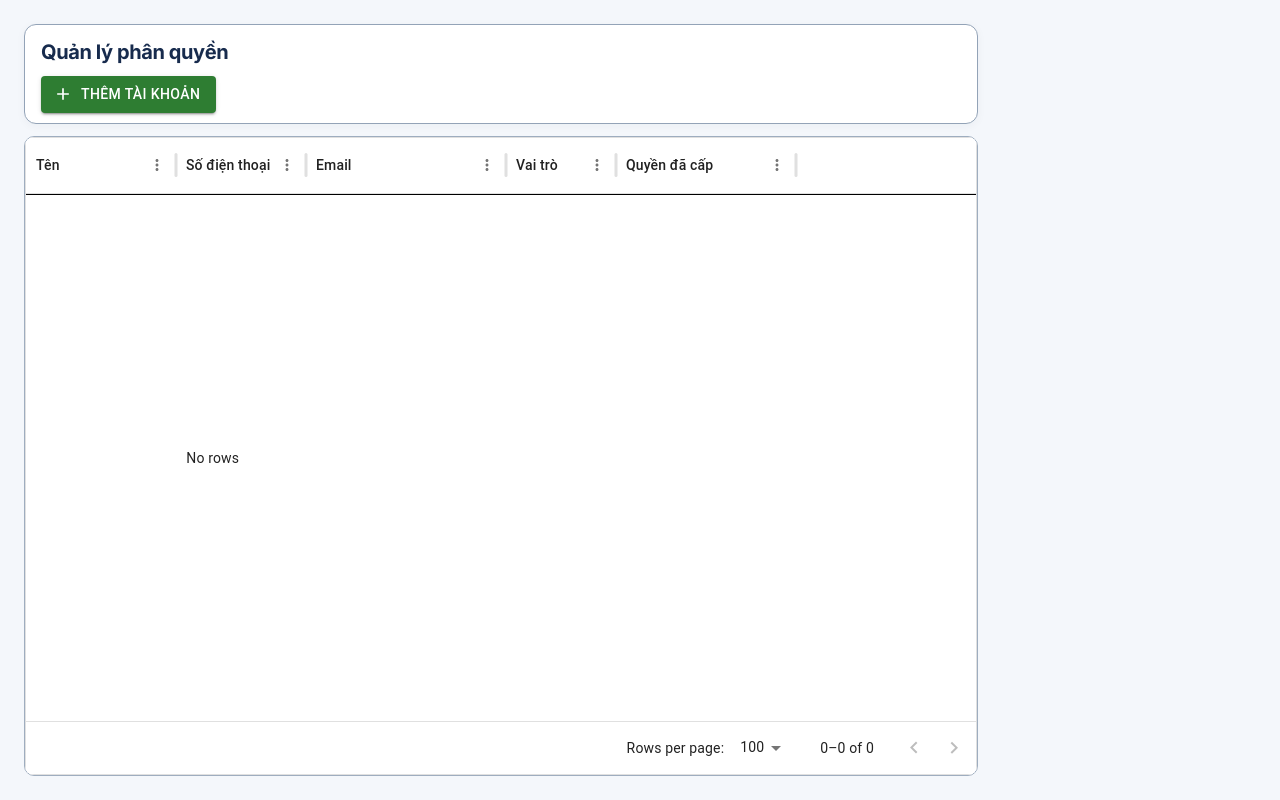
Account › shows fixed admin permissions block for admin role
Click the button "Thêm tài khoản" at (129, 94), box [41,76,216,112]
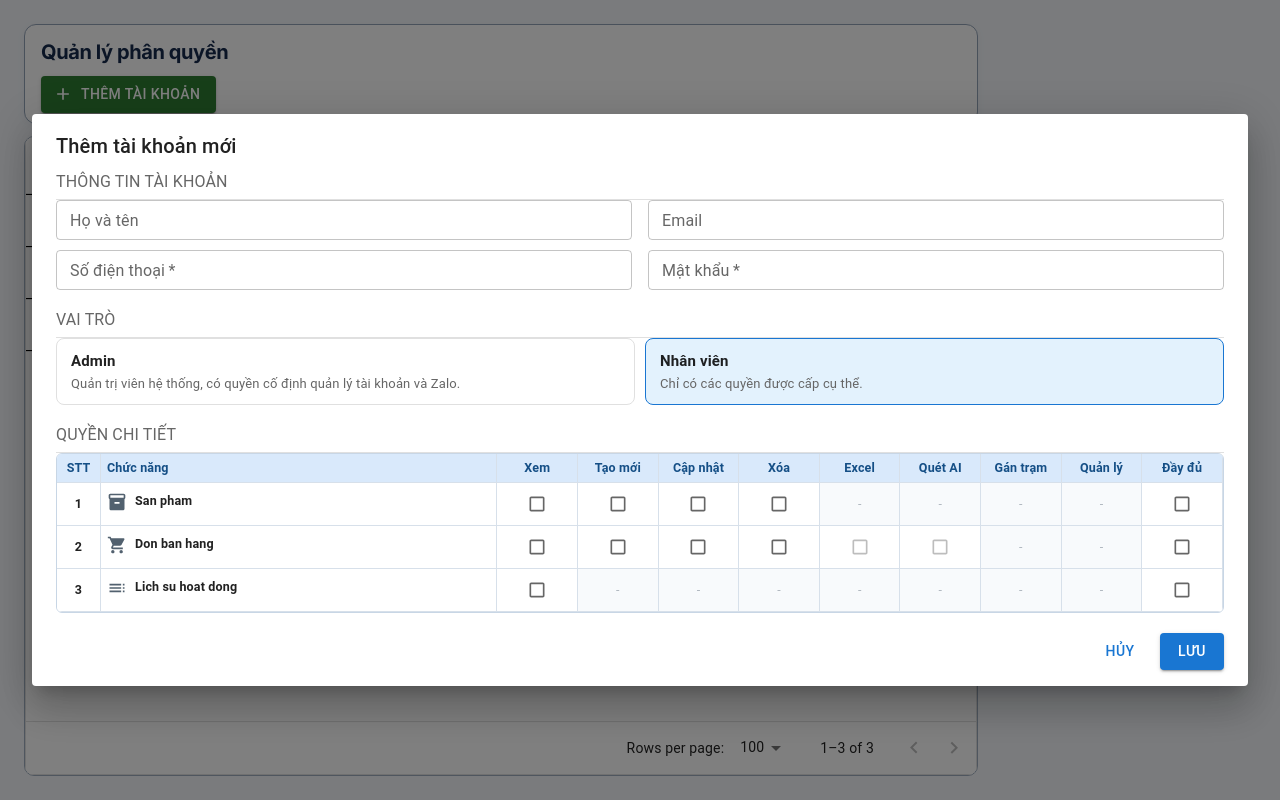
Now the text "Nhân viên" is shown, box [660,352,729,370]
Click the radio button "Admin" at (93, 361), box [56,338,635,405]
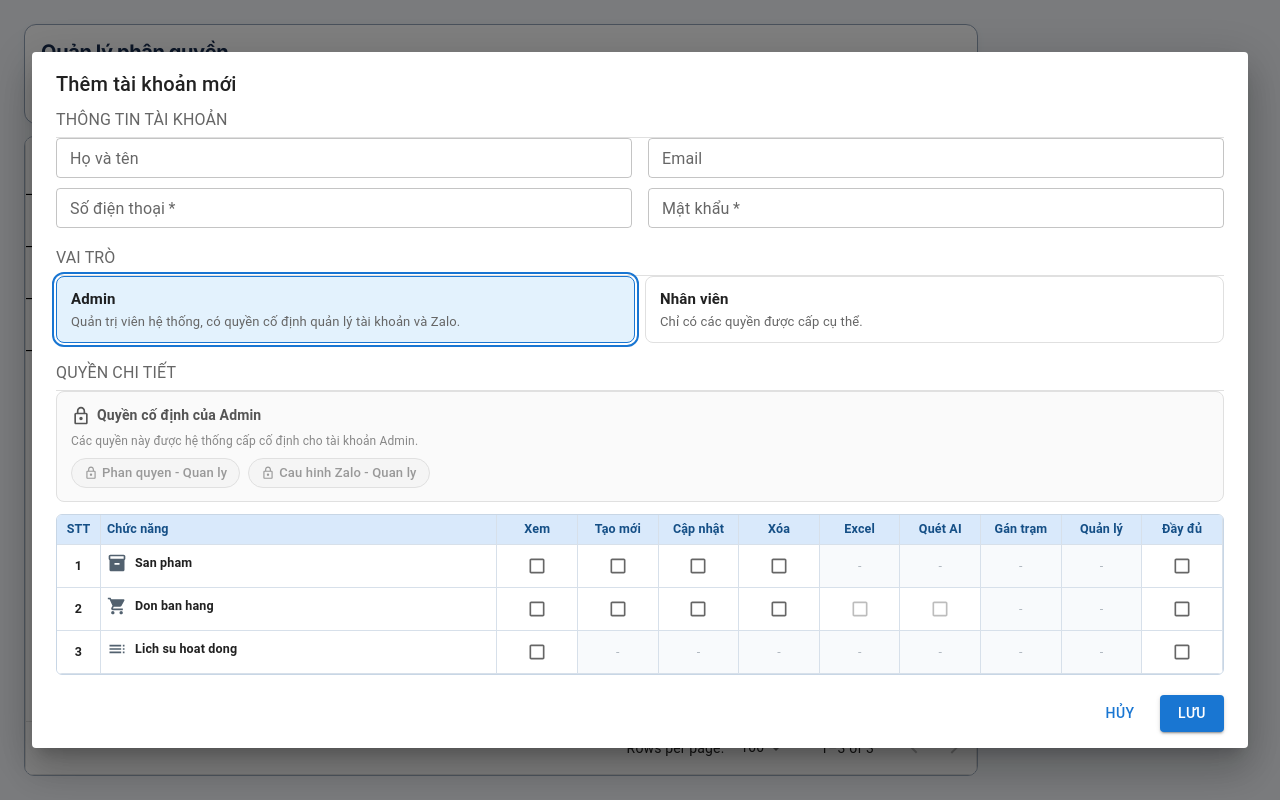
Now the text "Quyền cố định của Admin" is shown, box [71,406,261,426]
Now the text "Phan quyen - Quan ly" is shown, box [71,458,240,488]
Now the text "Cau hinh Zalo - Quan ly" is shown, box [248,458,430,488]
